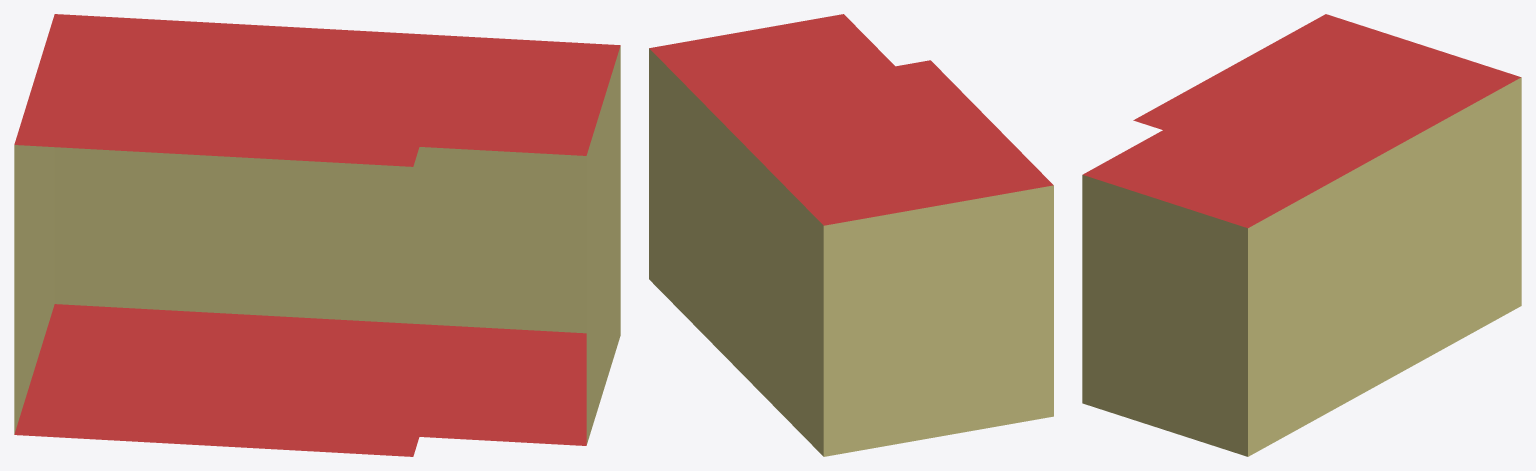
3 renders of one model, left to right at view 1: azimuth 30°, elevation 25°; view 2: azimuth 150°, elevation 25°; view 3: azimuth 270°, elevation 25°, orthographic. The views are drawn at different scales.
Bounding box in the file's own units: 11.48 × 9.94 × 5.71.
